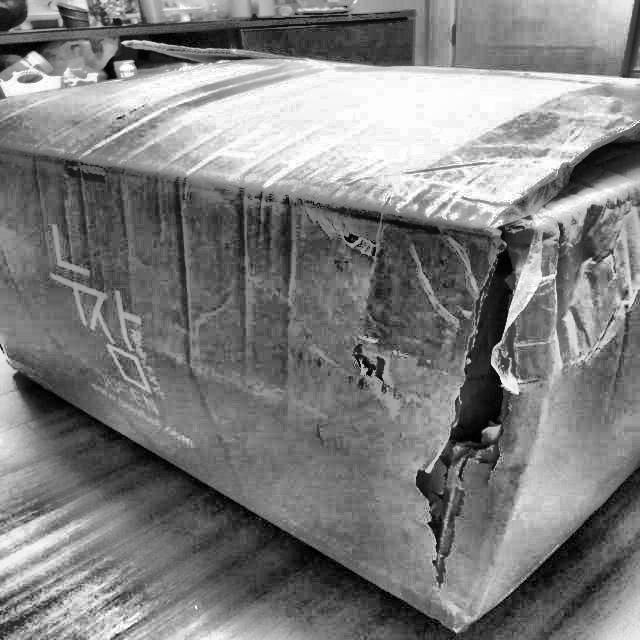box: (0, 33, 639, 639)
hole: (413, 238, 545, 600)
